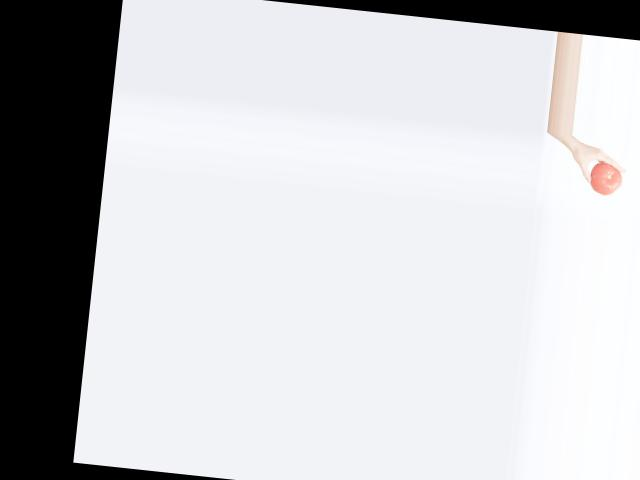tomato: (589, 161, 624, 196)
